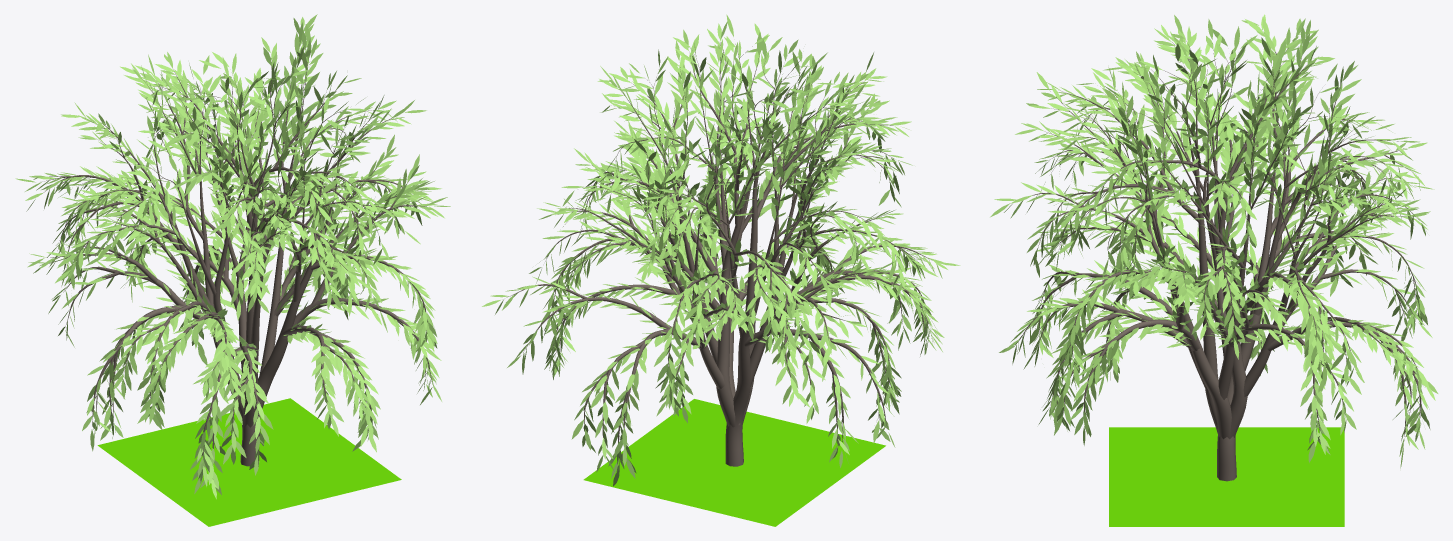
Rendered from treeAnimation.glb.
3 views of the same model, side by side, from view 1: azimuth 30°, elevation 25°; view 2: azimuth 150°, elevation 25°; view 3: azimuth 270°, elevation 25° (orthographic). The views are drawn at different scales.
Visible parts, largest first — view 1: leaves, tree, Plane; view 2: leaves, tree, Plane; view 3: leaves, tree, Plane.
Boxes of the visible parts, x1=… form: leaves: x1=15, y1=14, x2=450, y2=499; tree: x1=44, y1=45, x2=431, y2=466; Plane: x1=97, y1=398, x2=401, y2=526; leaves: x1=482, y1=14, x2=960, y2=486; tree: x1=506, y1=42, x2=929, y2=466; Plane: x1=583, y1=399, x2=885, y2=526; leaves: x1=990, y1=14, x2=1438, y2=468; tree: x1=1017, y1=39, x2=1421, y2=481; Plane: x1=1109, y1=427, x2=1344, y2=526.
Size of the model in its own units: 6.92 by 7.56 by 6.84.
